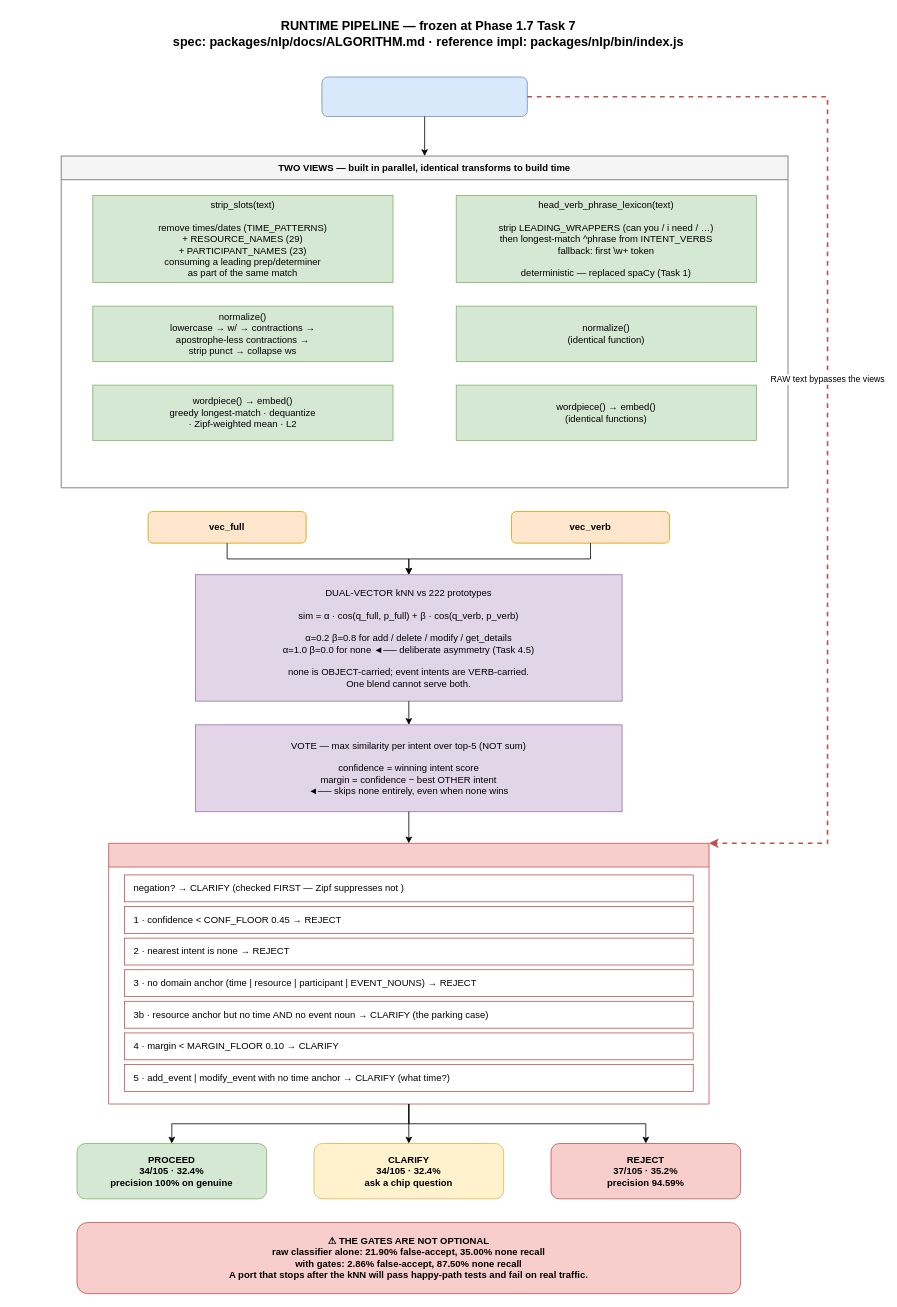
This 897x1307 diagram has some shape labels left out. Here are the shapes that lost their labels. From the top down, the box of each, then its label:
(321, 76, 527, 117): RAW INPUT TEXT
(108, 843, 709, 1104): GATE LAYER — first match wins (reads RAW pre-strip text)
